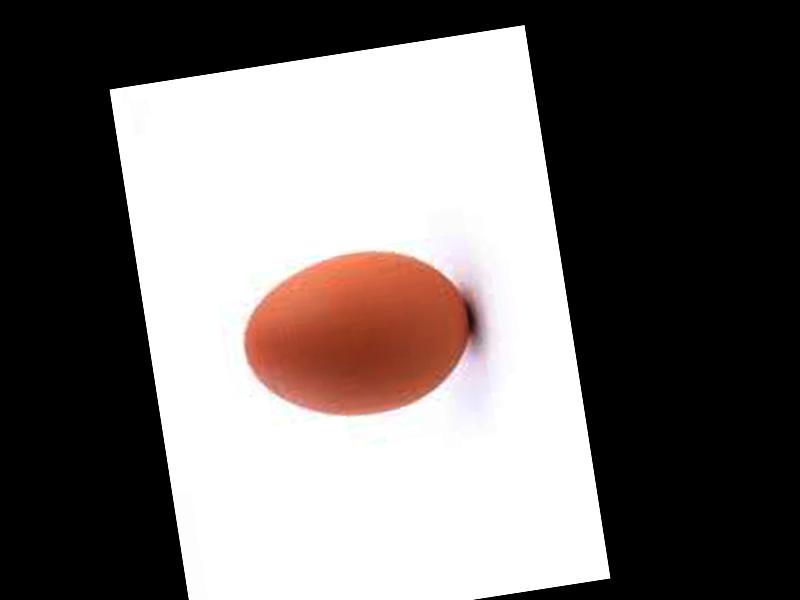Eggs: (231, 240, 480, 433)
